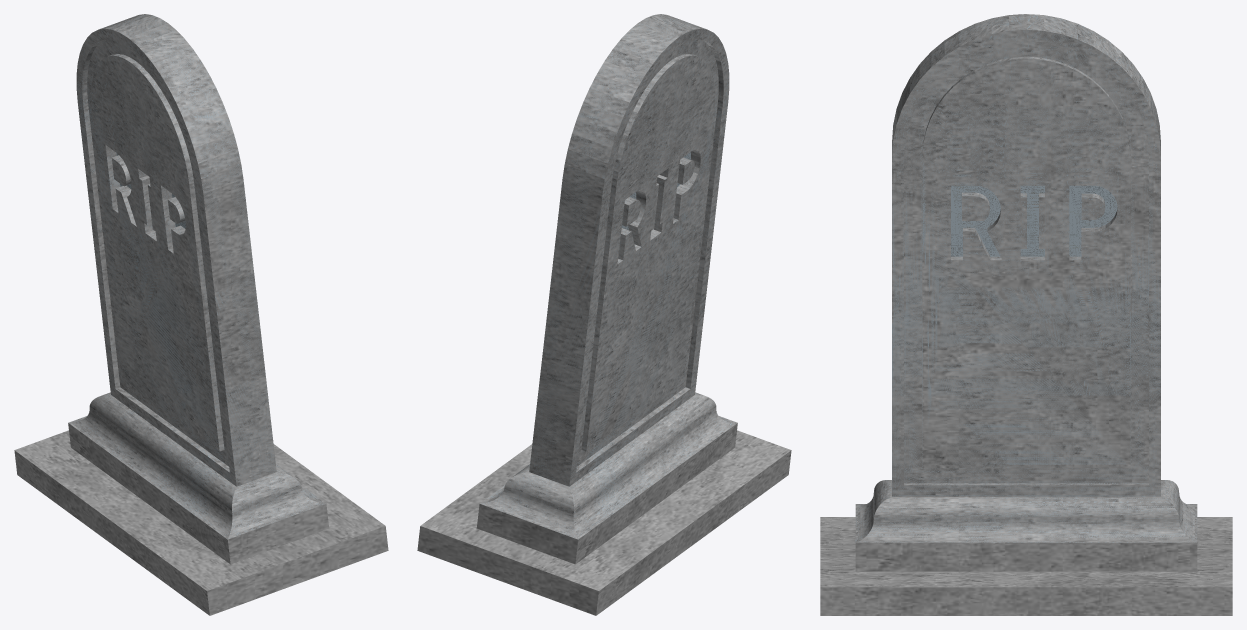
Rendered from Tombstone.fbx.
The picture shows the model from 3 angles, left to right: view 1: azimuth 30°, elevation 25°; view 2: azimuth 150°, elevation 25°; view 3: azimuth 270°, elevation 25°; orthographic projection. The views are drawn at different scales.
Visible parts, largest first — view 1: Model; view 2: Model; view 3: Model.
Boxes of the visible parts, left/top/right/bottom form: Model: left=14, top=14, right=388, bottom=615; Model: left=417, top=14, right=791, bottom=615; Model: left=820, top=14, right=1232, bottom=615.
Bounding box in the file's own units: 0.3699 × 0.9912 × 0.68.
